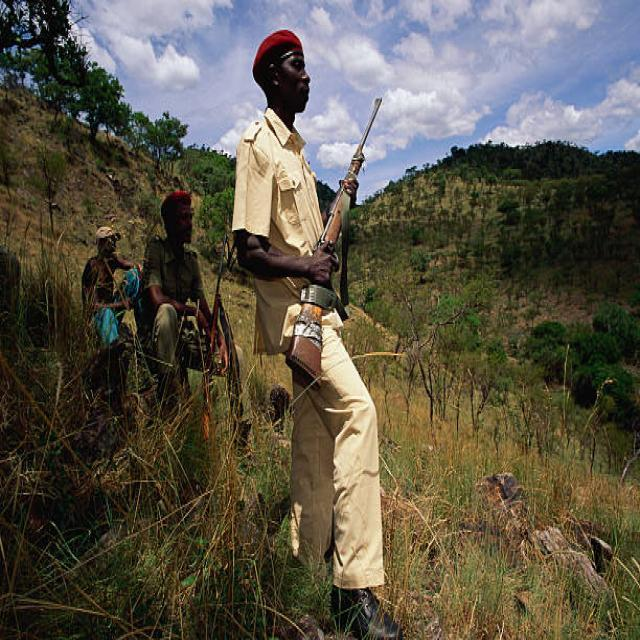ranger: (211, 6, 396, 488), (144, 183, 232, 385), (75, 202, 151, 370)
weapon: (276, 97, 373, 362)
